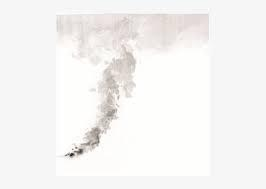smoke: (64, 36, 143, 160)
